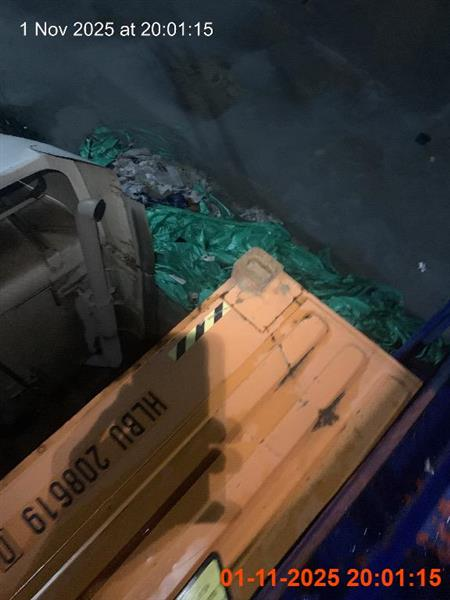bent: (0, 133, 159, 430)
